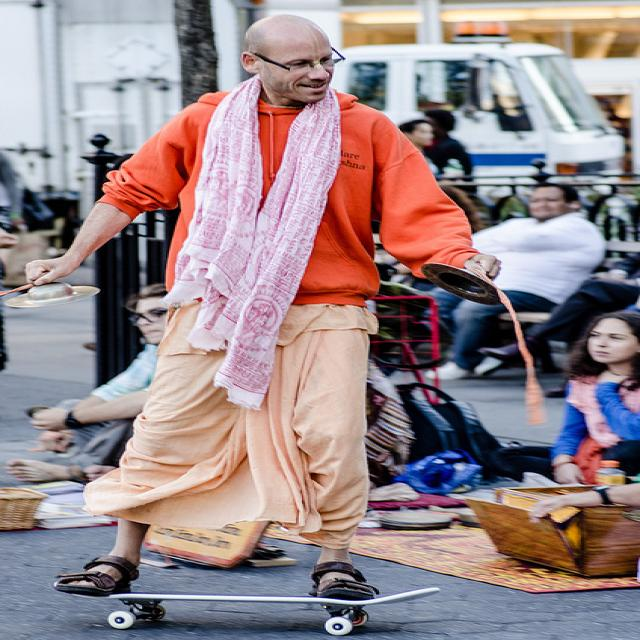Vehicle: (331, 43, 632, 176)
